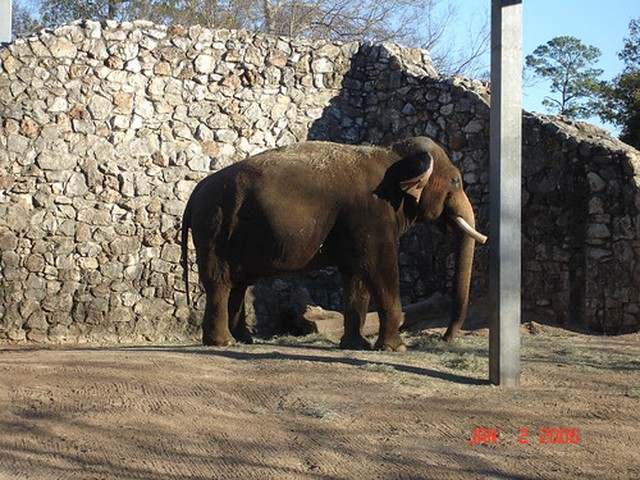Elephant: (173, 133, 490, 353)
